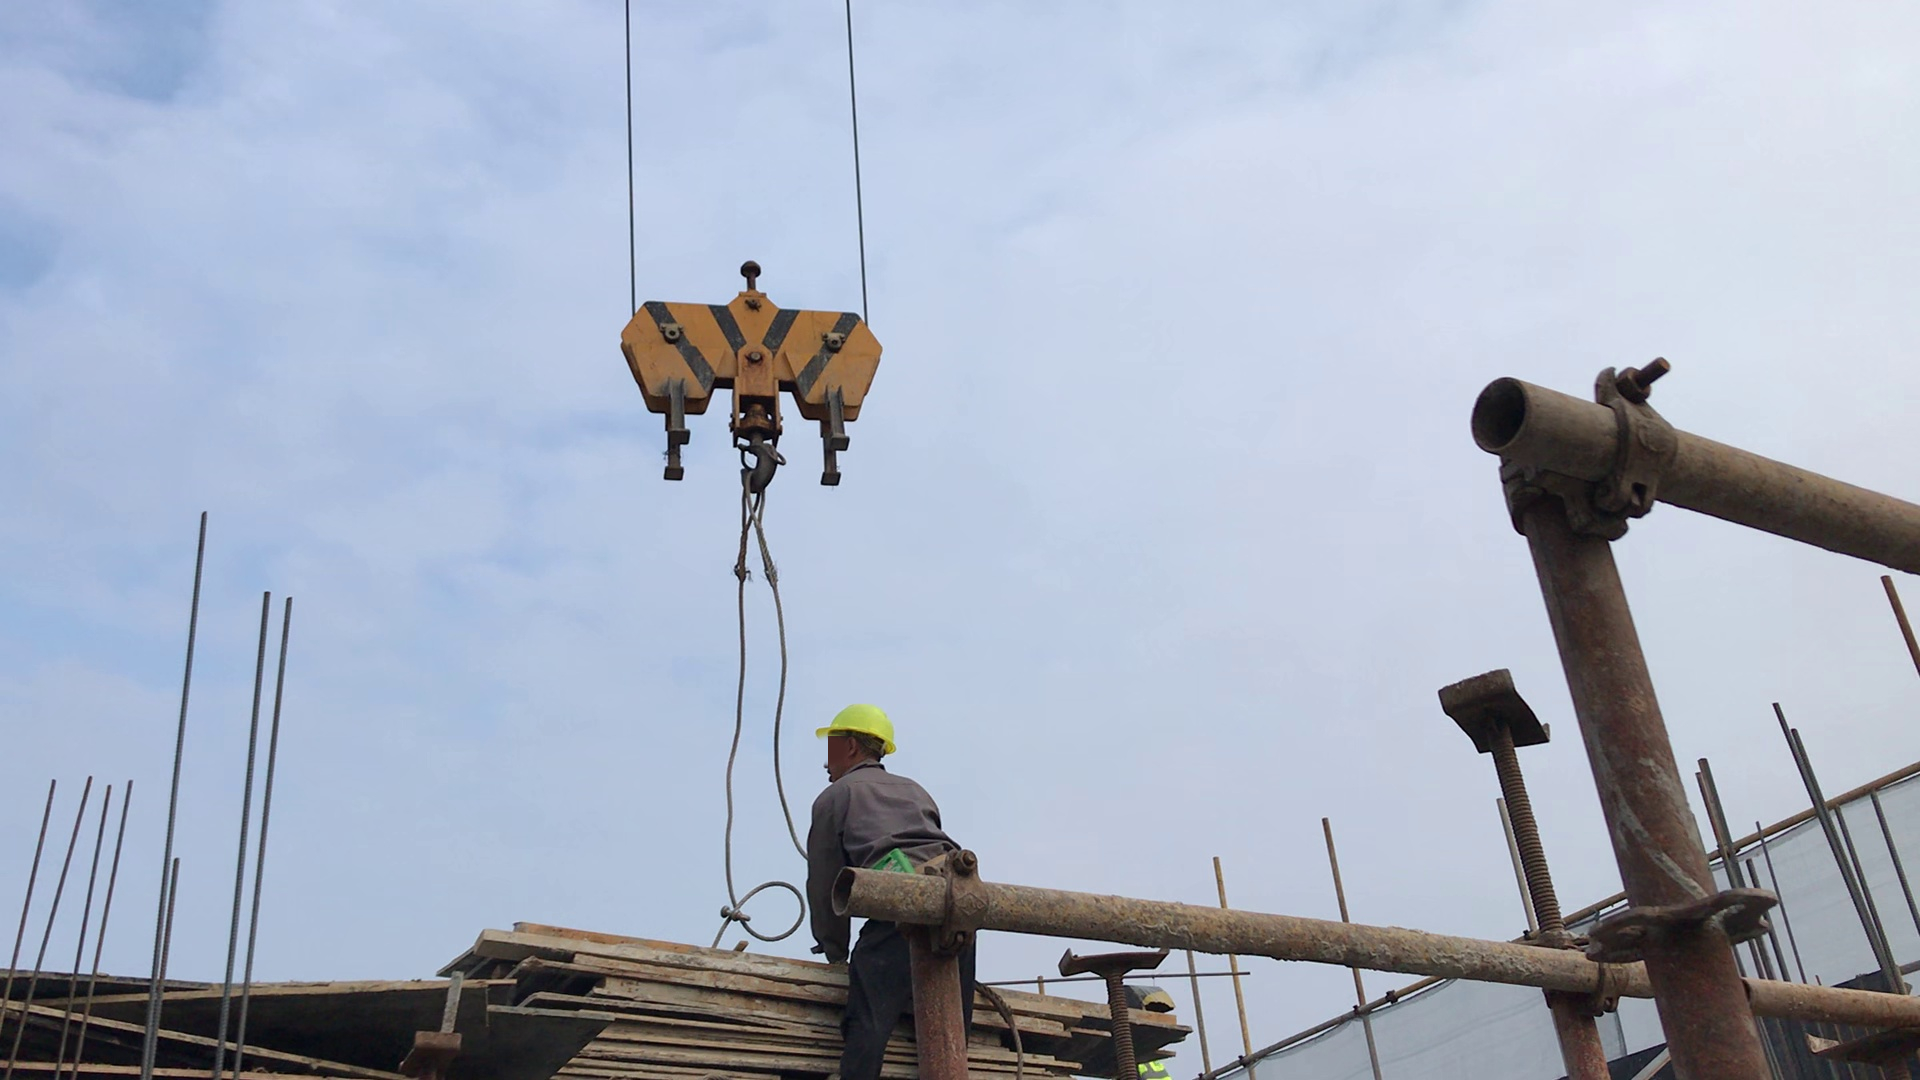board: (417, 916, 834, 1080)
helmet: (817, 712, 901, 758)
hook: (610, 253, 888, 505)
person: (807, 708, 906, 1080)
